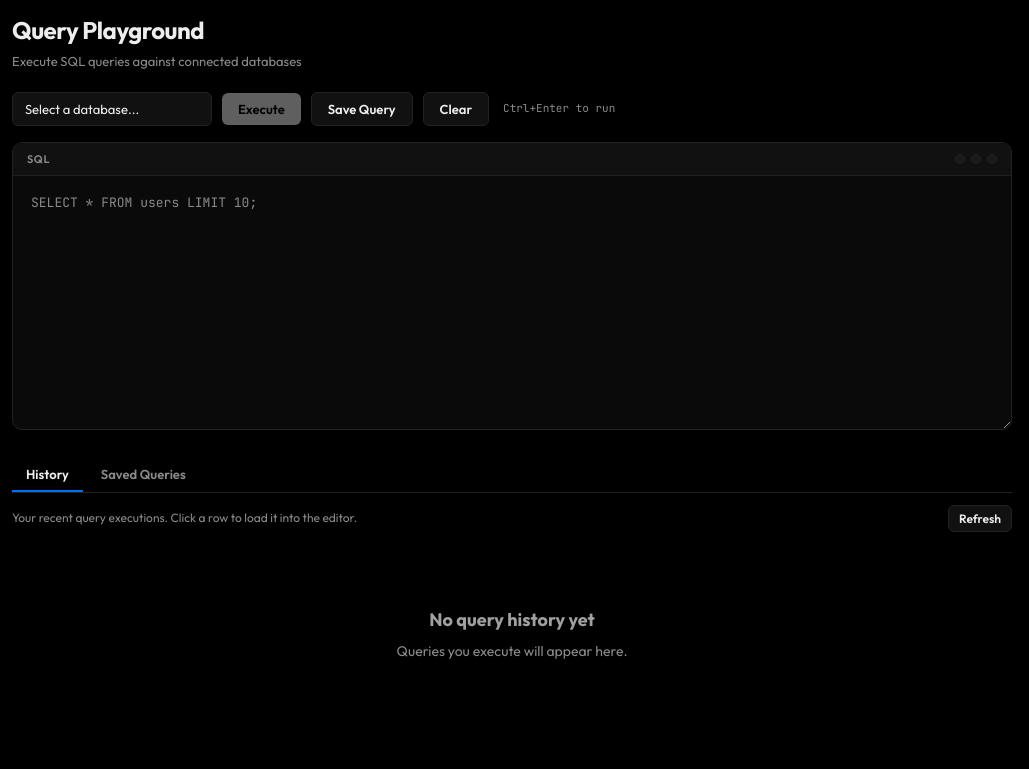
QueryPlayground — graph rendering › renders Turtle in a <pre> when result.graph is set
Select "test-db" in the dropdown at [112, 108], box [12,92,212,126]
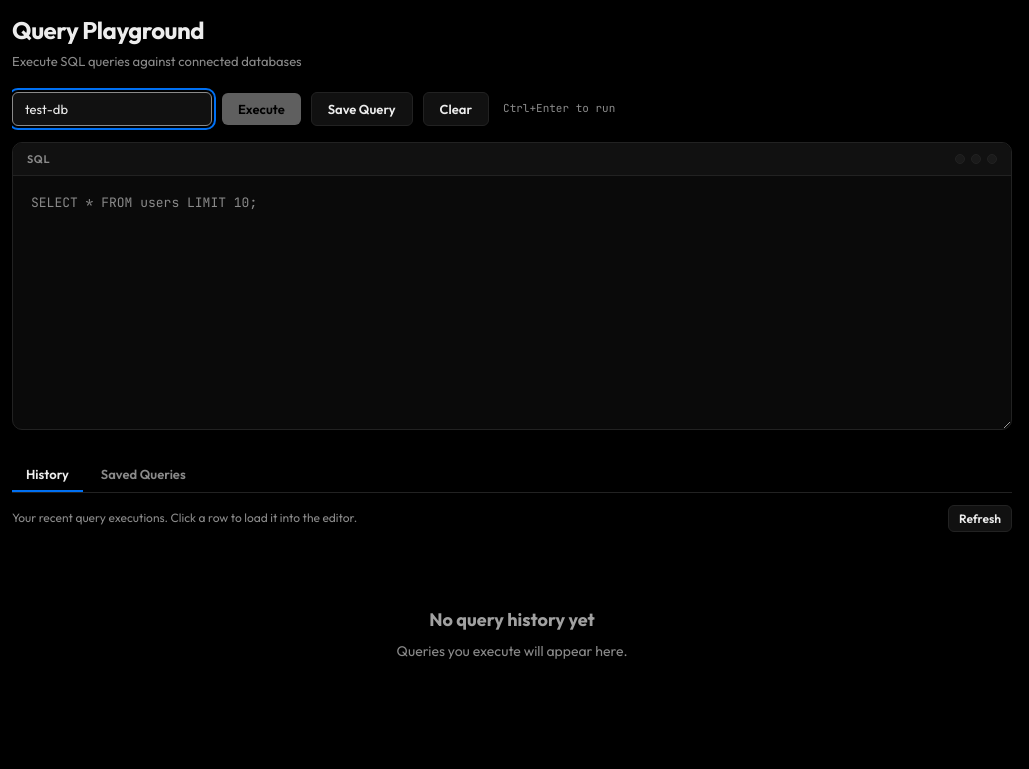
Type "QUERY" into the text box named "SQL editor" at [512, 302], box [13,176,1011,429]
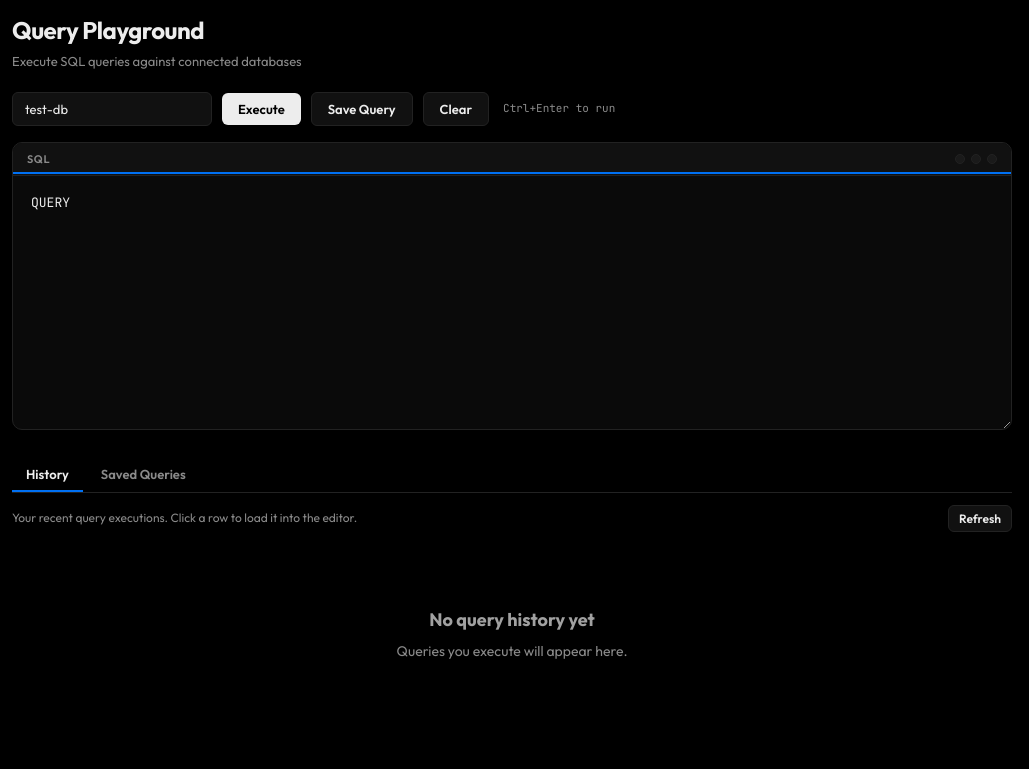
Click the button "Execute" at [261, 108], box [222,92,301,124]
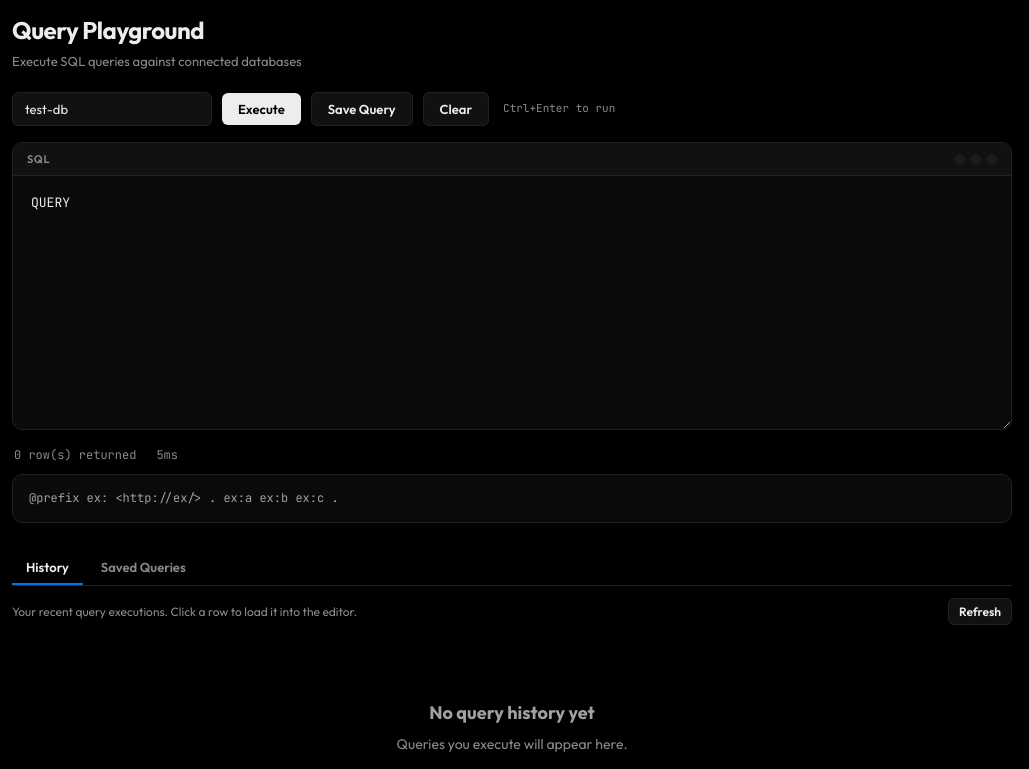
Expected: the text "@prefix ex: <http://ex/> . ex:a ex:b ex:c ." is shown, [12,474,1012,523]
Expected: the text with class "rdf-graph" shows "ex:a ex:b ex:c", [29,490,339,506]
